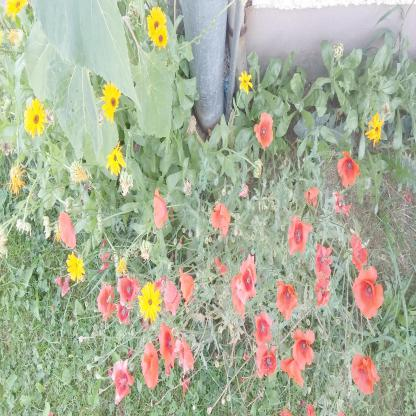marigold: (23, 96, 47, 138), (100, 79, 122, 124), (140, 280, 161, 322), (103, 139, 126, 177), (363, 109, 385, 147), (146, 4, 167, 39), (66, 251, 86, 284), (152, 22, 168, 51), (4, 0, 29, 18), (236, 68, 253, 93)
